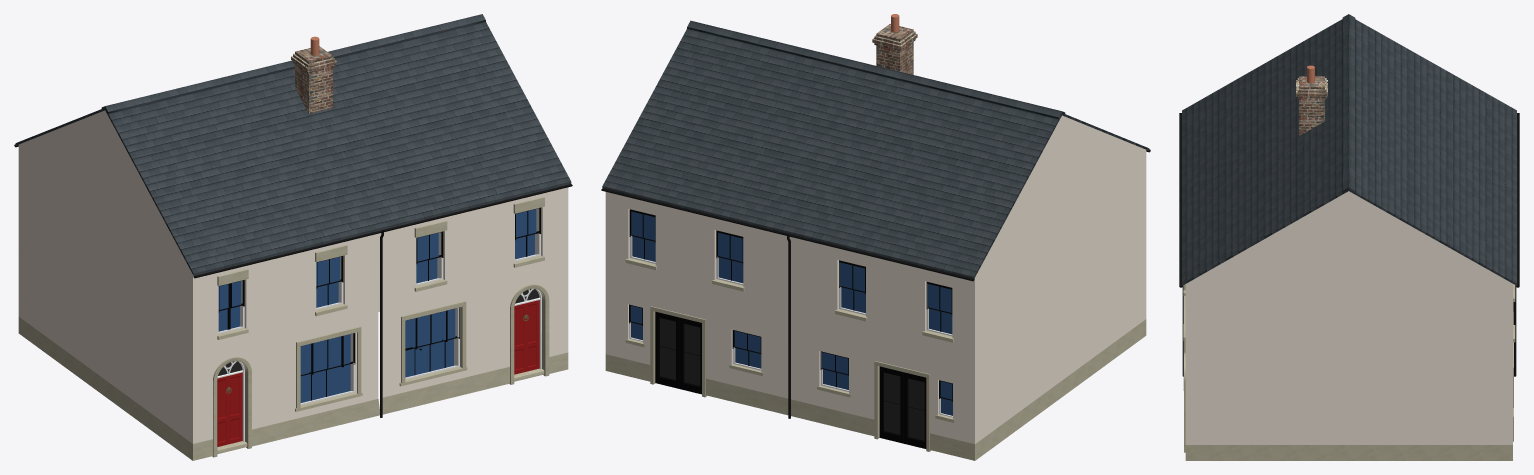
The model's file is house.obj.
3 views of the same model, side by side, from view 1: azimuth 30°, elevation 25°; view 2: azimuth 150°, elevation 25°; view 3: azimuth 270°, elevation 25° (orthographic). The views are drawn at different scales.
Parts seen in each view (by area): view 1: polySurface76_houseF, Object001; view 2: polySurface76_houseF, Object001; view 3: polySurface76_houseF.
Boxes of the visible parts, x1=… form: polySurface76_houseF: x1=14, y1=14, x2=572, y2=460; Object001: x1=218, y1=209, x2=536, y2=402; polySurface76_houseF: x1=601, y1=14, x2=1150, y2=460; Object001: x1=630, y1=211, x2=952, y2=415; polySurface76_houseF: x1=1179, y1=14, x2=1519, y2=460.
Size of the model in its own units: 4.45 by 3.71 by 3.7.
Materials: 16 (11 with a texture image).
